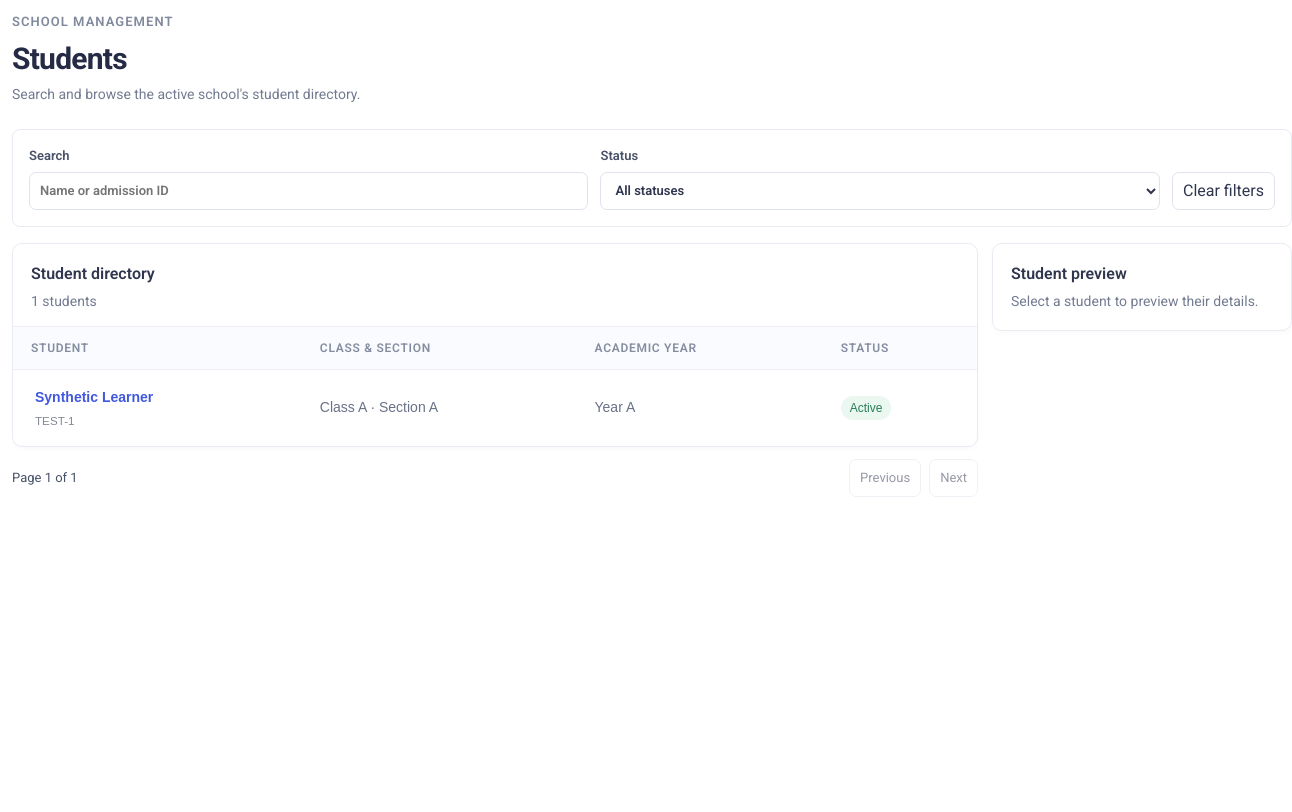
Scenario: API student directory › clears the previous school's preview when the active school changes
Later steps or results of the test are not shown.
What coordinates should you click on to do the following:
click the button "Synthetic Learner TEST-1"
I would click on:
 (94, 408)
Its box is x1=31 y1=382 x2=157 y2=433.
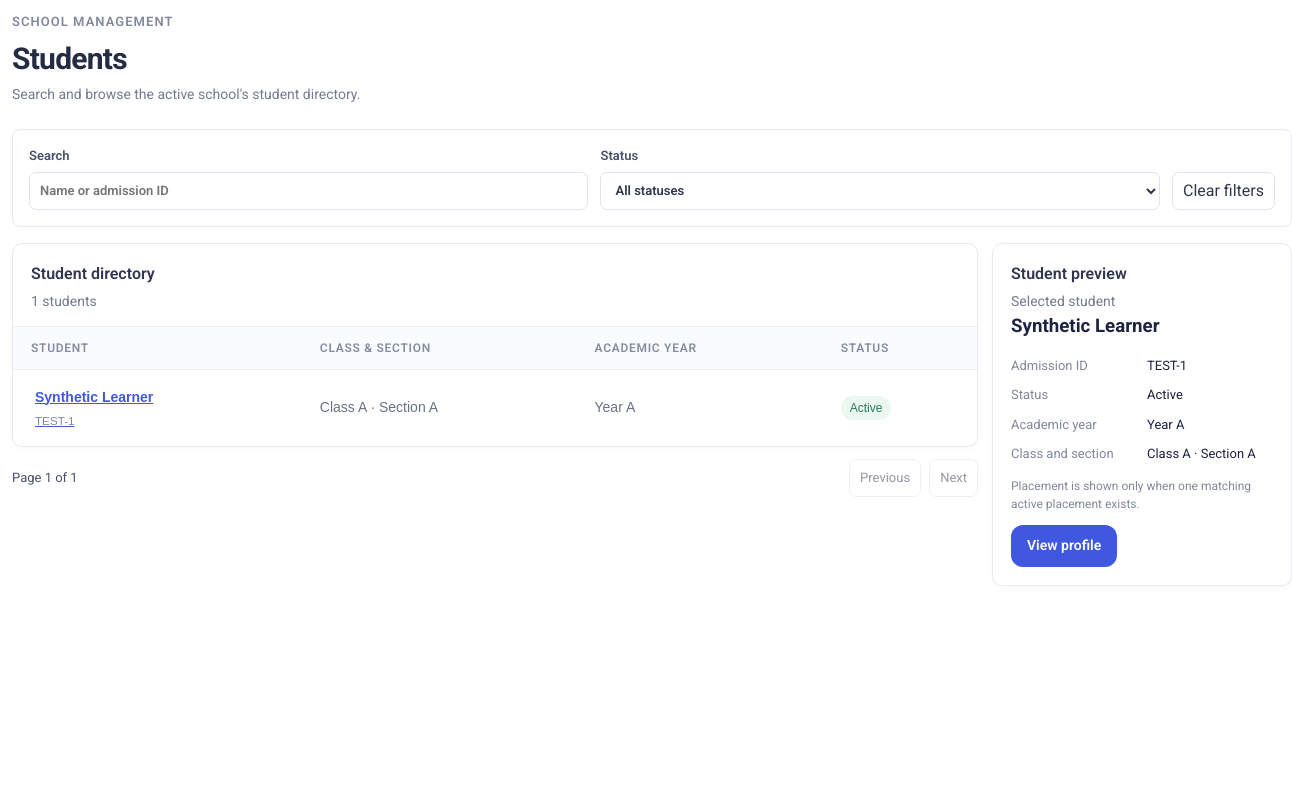
Expected: the text "TEST-1" next to "Admission ID" is shown, x1=1147 y1=358 x2=1187 y2=373
